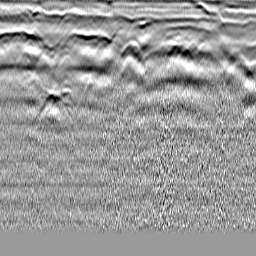cavity: (118, 37, 143, 62)
